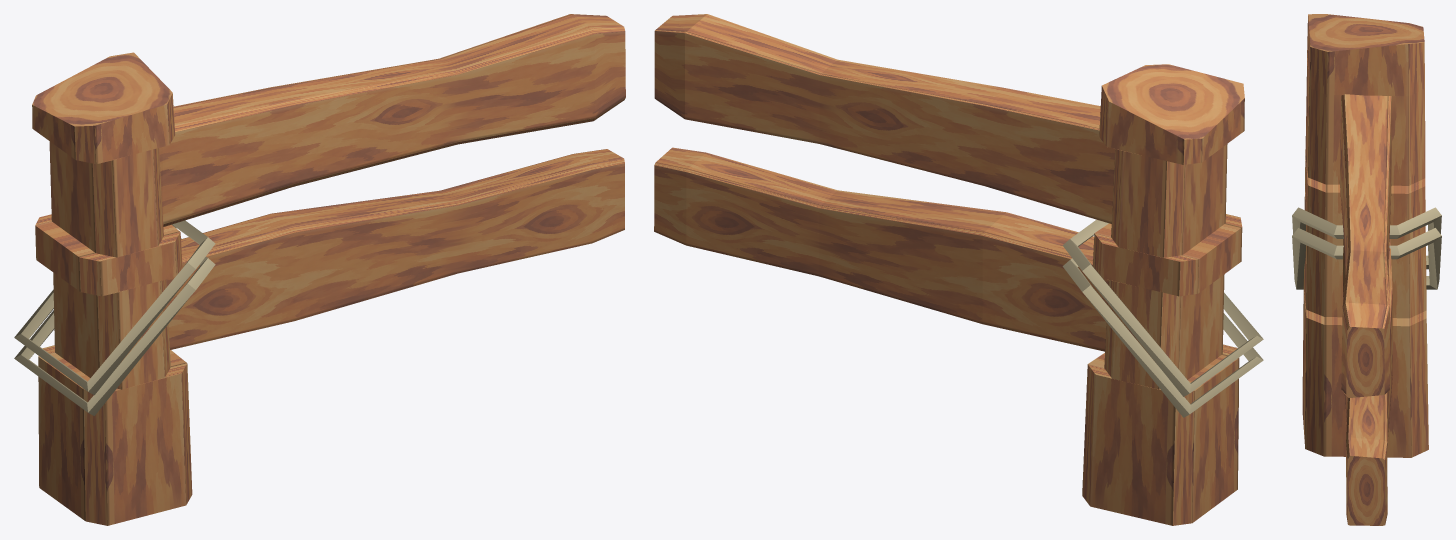
The model's file is fence_w_150_a.glb.
3 renders of one model, left to right at view 1: azimuth 30°, elevation 25°; view 2: azimuth 150°, elevation 25°; view 3: azimuth 270°, elevation 25°, orthographic. The views are drawn at different scales.
Parts seen in each view (by area): view 1: fence_w_150_a; view 2: fence_w_150_a; view 3: fence_w_150_a.
Boxes of the visible parts, box(x1,y1,x2,y2) form: fence_w_150_a: box(14, 14, 625, 525); fence_w_150_a: box(654, 14, 1263, 525); fence_w_150_a: box(1292, 14, 1441, 525).
Bounding box in the file's own units: 1.7 × 1.19 × 0.3989.
Materials: 1 (1 with a texture image).
